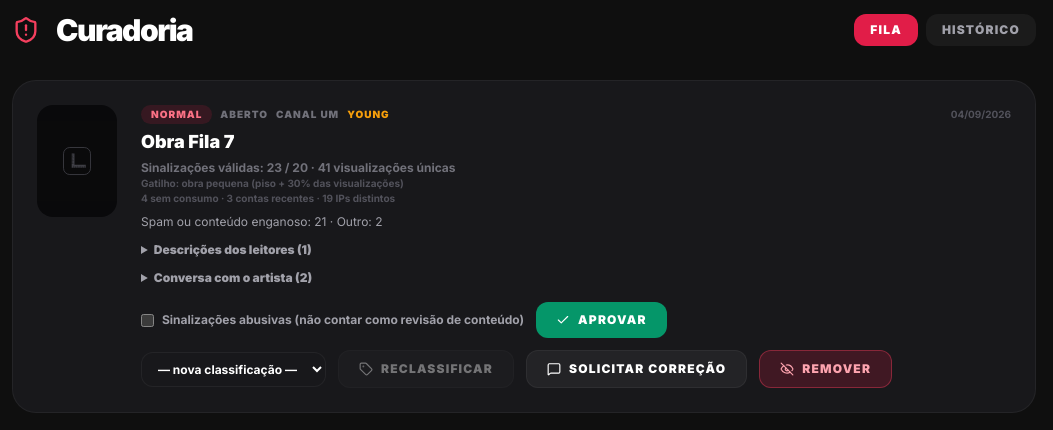
Test: CuradoriaPanel — 409 e recarga da fila › 409 e o caso SAIU da fila no refetch: a mensagem sobrevive fora do card
The width and height of the screenshot is (1053, 430).
Click the button "Aprovar": (601,320) [536,302,667,338]
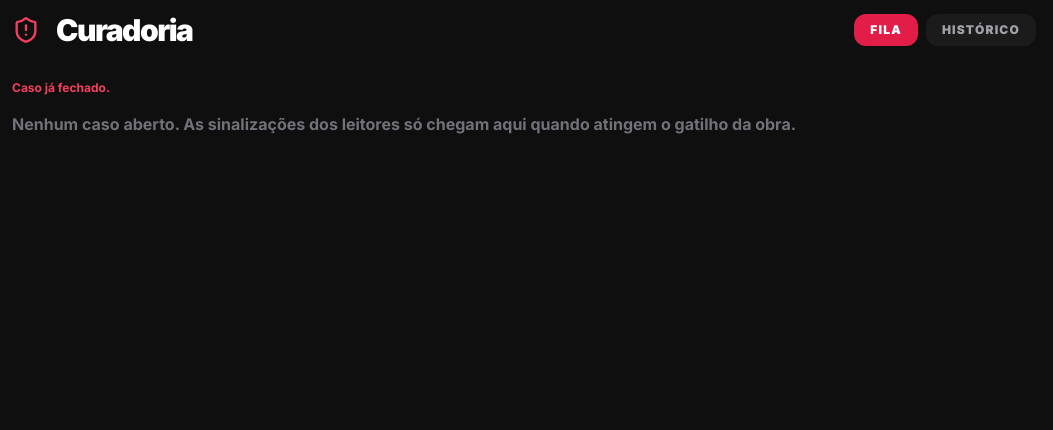
Result: the heading "Obra Fila 7" is gone
Result: the text "Caso já fechado." is shown at [12,80,110,95]
